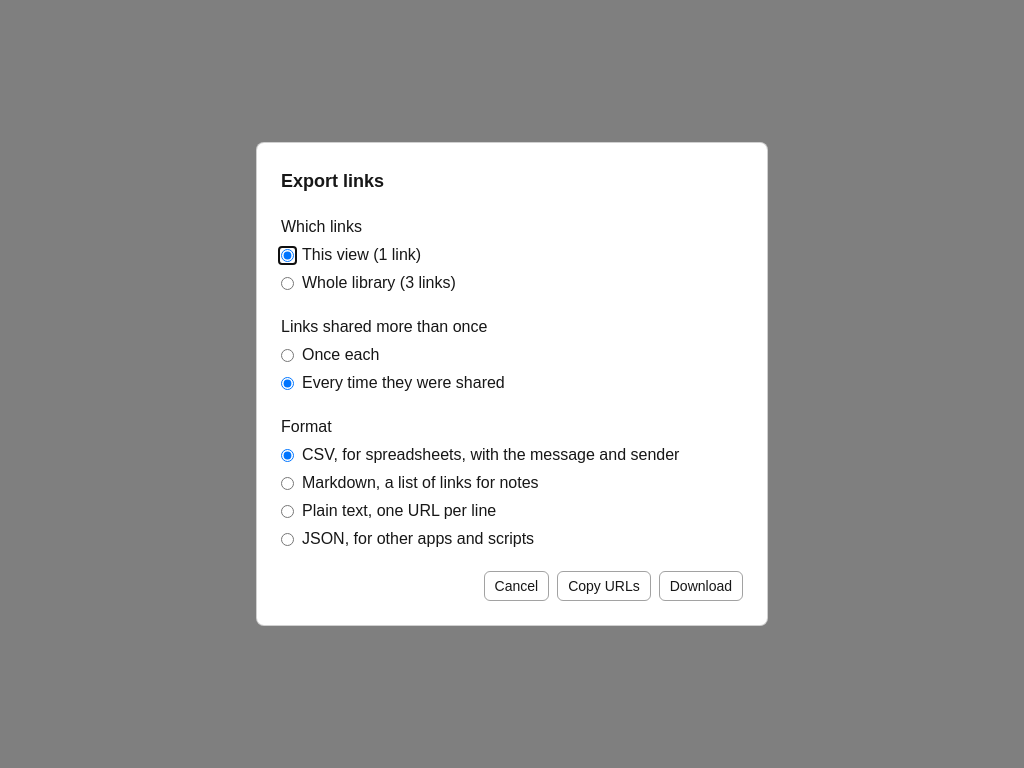
a failure says so and leaves the dialog open to try again
The width and height of the screenshot is (1024, 768).
Click the button "Download" at (701, 586), box top-left (659, 571), bottom-right (743, 601)
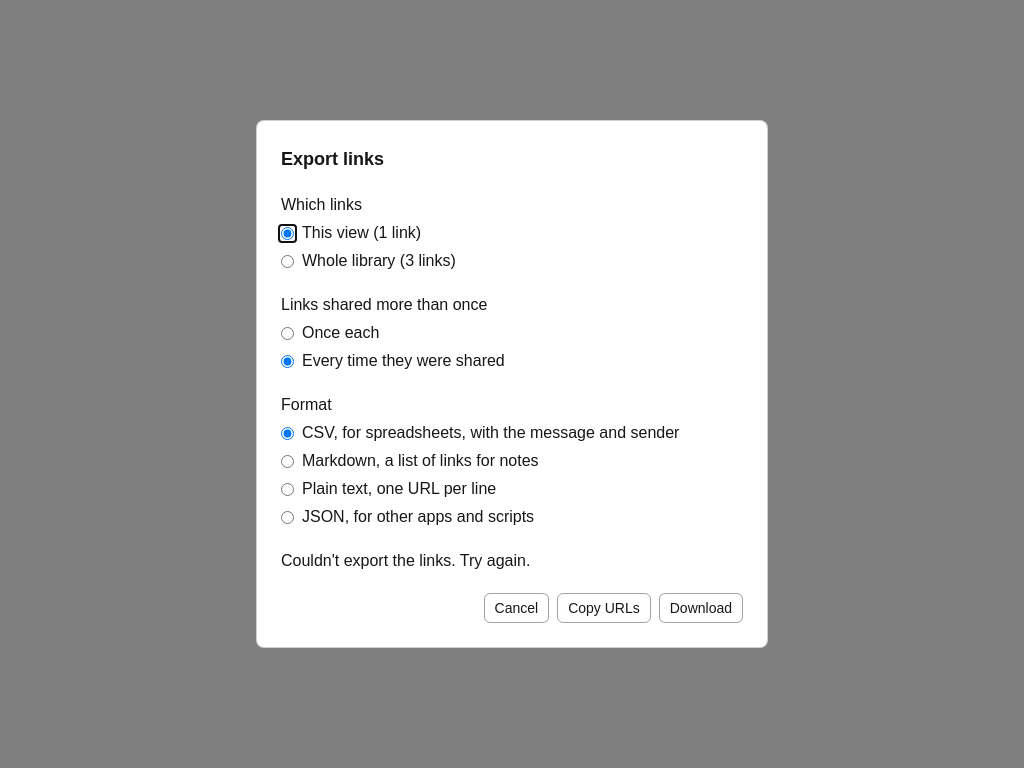
expect the message reads "Couldn't export the links. Try again.": met, box top-left (281, 552), bottom-right (530, 569)
